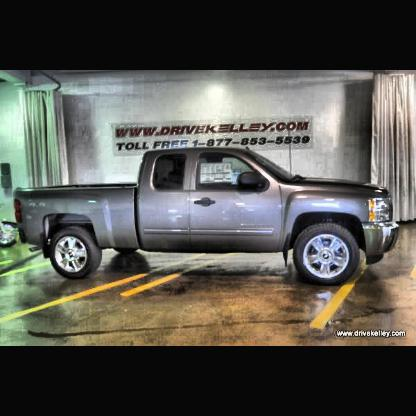Chevrolet Silverado 1500 Extended Cab 2012: (13, 147, 400, 287)
